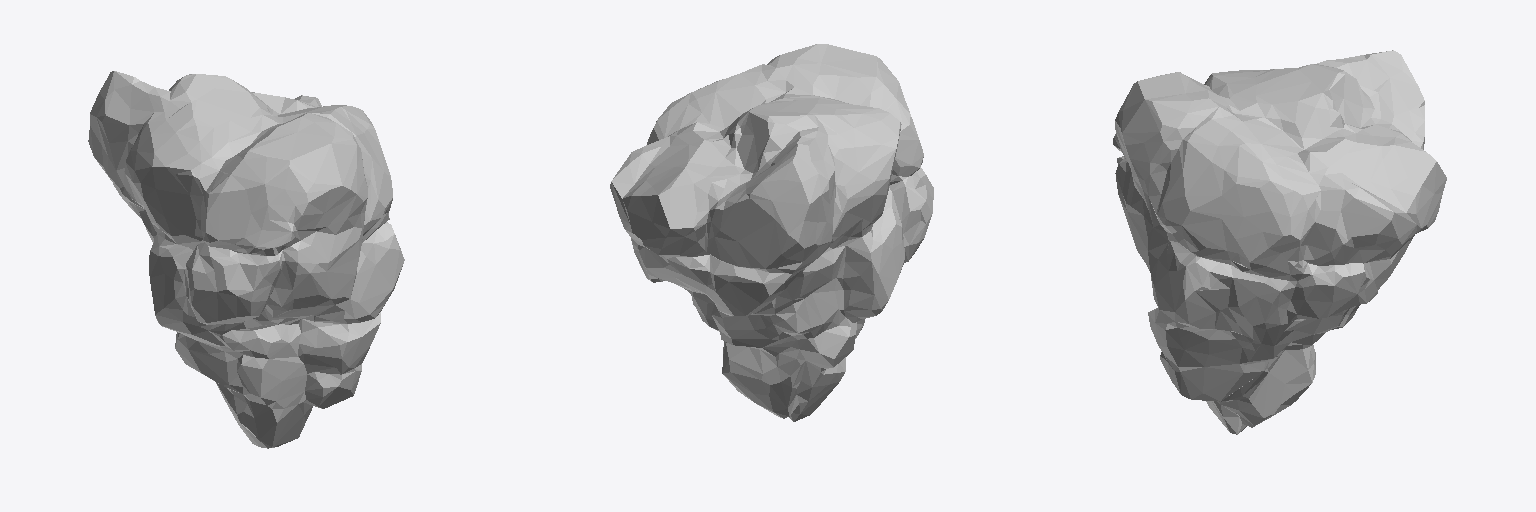
File: enemy.obj
The picture shows the model from 3 angles: view 1: azimuth 30°, elevation 25°; view 2: azimuth 150°, elevation 25°; view 3: azimuth 270°, elevation 25°; orthographic projection.
Parts seen in each view (by area): view 1: Rock_LOD0; view 2: Rock_LOD0; view 3: Rock_LOD0.
Boxes of the visible parts, <box> form: Rock_LOD0: <box>88,71,404,448</box>; Rock_LOD0: <box>610,44,933,421</box>; Rock_LOD0: <box>1113,50,1446,434</box>.
Bounding box in the file's own units: 1.38 × 1.87 × 1.69.